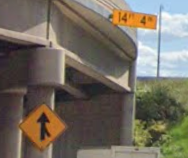1: (114, 9, 121, 25)
4: (137, 13, 147, 28), (121, 10, 127, 26)
overheadsign: (112, 7, 158, 32)
